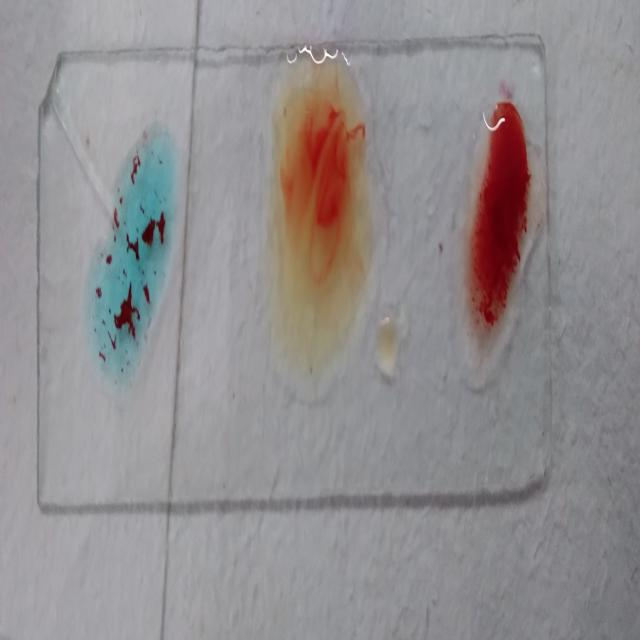A: (86, 131, 179, 383)
D: (458, 96, 540, 368)
